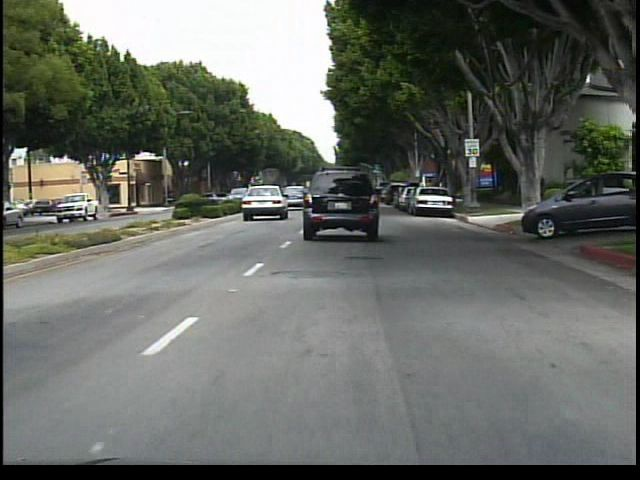person: (512, 169, 533, 213)
